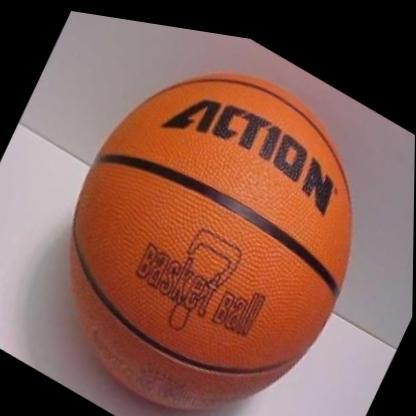basketball: (11, 2, 411, 416)
